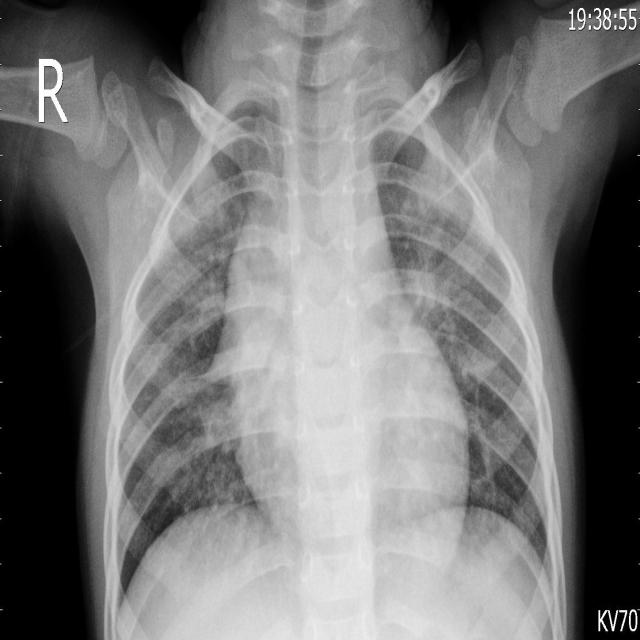low-pneumonia: (173, 175, 238, 336), (402, 246, 478, 338), (407, 144, 472, 240)
